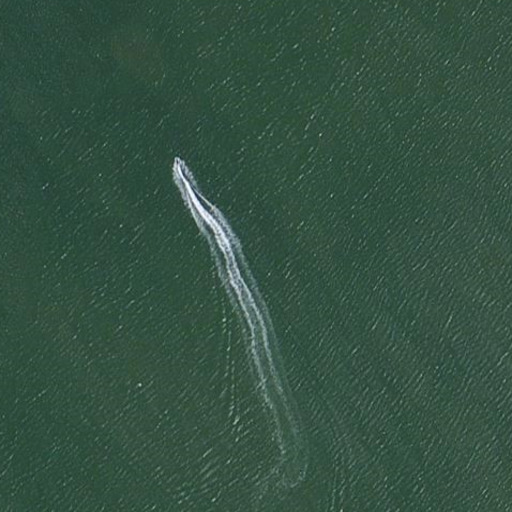ship: (170, 155, 190, 183)
